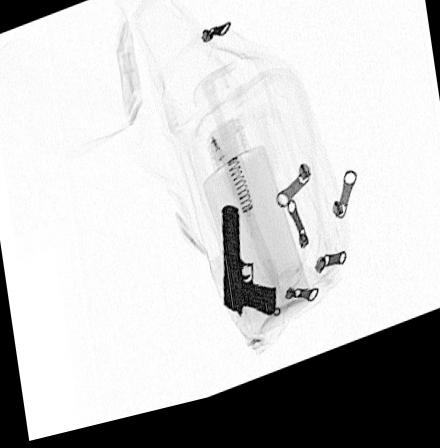Gun: (221, 214, 277, 329)
